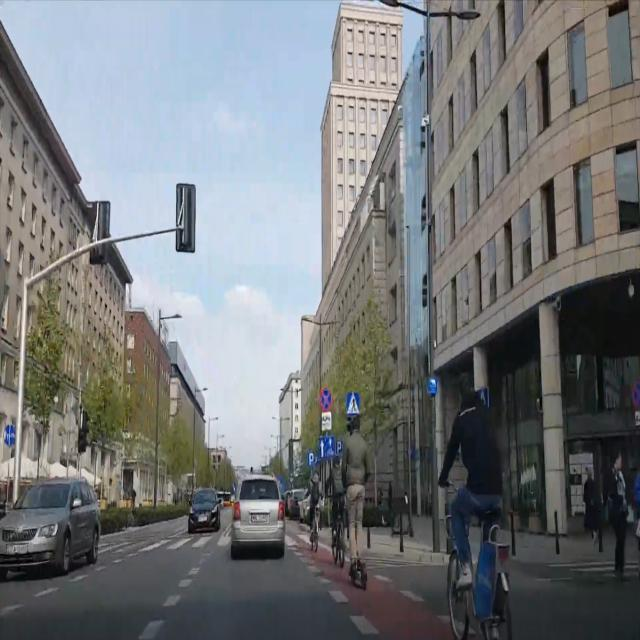Zakaz zatrzymywania sie: (320, 386, 333, 410)
